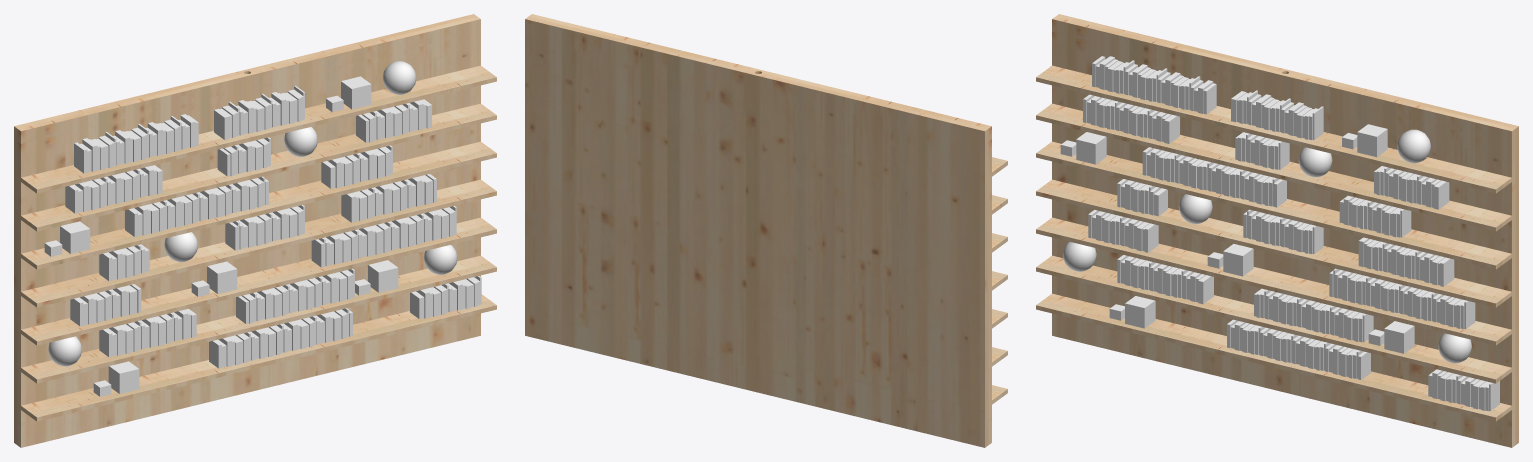
The model's file is BUILDING_OPERABLE_ROTATING WALL 1.fbx.
3 views of the same model, side by side, from view 1: azimuth 30°, elevation 25°; view 2: azimuth 150°, elevation 25°; view 3: azimuth 330°, elevation 25° (orthographic).
Visible parts, largest first — view 1: closed, Object_25, Object_421, Object_28, Object_415, Object_417, Object_419, Object_423, Object_424, Object_425, Object_422; view 2: closed; view 3: closed, Object_25, Object_28, Object_415, Object_421, Object_417, Object_419, Object_422, Object_423, Object_424, Object_425.
Part boxes in pixels (x1,y1,x2,y2): closed: (14,14,496,447); Object_25: (382,61,416,94); Object_421: (108,361,139,393); Object_28: (341,76,371,109); Object_415: (60,221,90,253); Object_417: (207,261,237,293); Object_419: (368,260,398,292); Object_423: (164,232,198,262); Object_424: (423,245,457,274); Object_425: (48,336,81,366); Object_422: (284,127,317,156); closed: (525,14,1007,447); closed: (1036,14,1518,447); Object_25: (1397,129,1430,163); Object_28: (1357,124,1387,157); Object_415: (1076,132,1106,164); Object_421: (1125,296,1155,328); Object_417: (1223,244,1253,276); Object_419: (1384,321,1414,353); Object_422: (1298,147,1332,177); Object_423: (1178,194,1212,224); Object_424: (1438,333,1471,363); Object_425: (1062,241,1096,271).
Bounding box in the file's own units: 19 × 1.69 × 12.5.
Materials: 2 (1 with a texture image).
